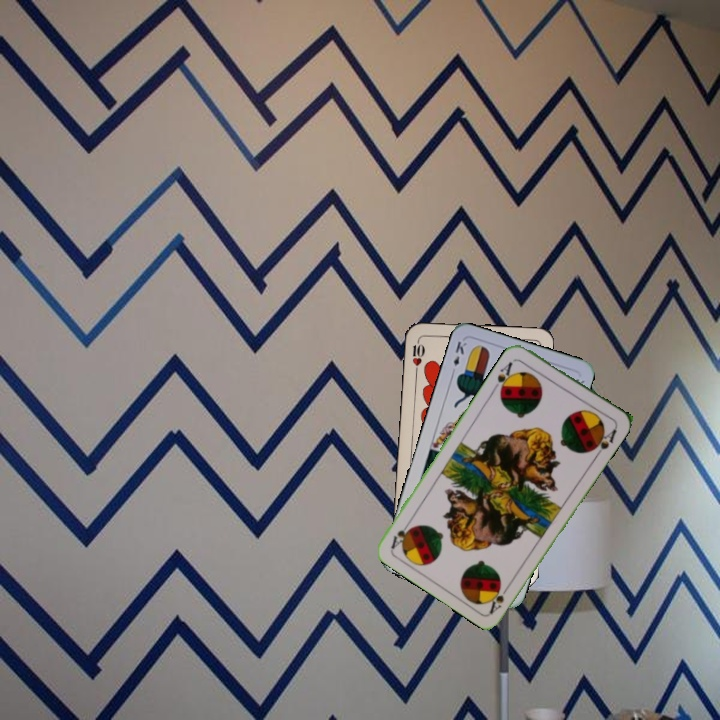EK: (447, 337, 469, 377)
H10: (408, 335, 427, 375)
SA: (486, 579, 514, 616), (490, 358, 517, 395)
